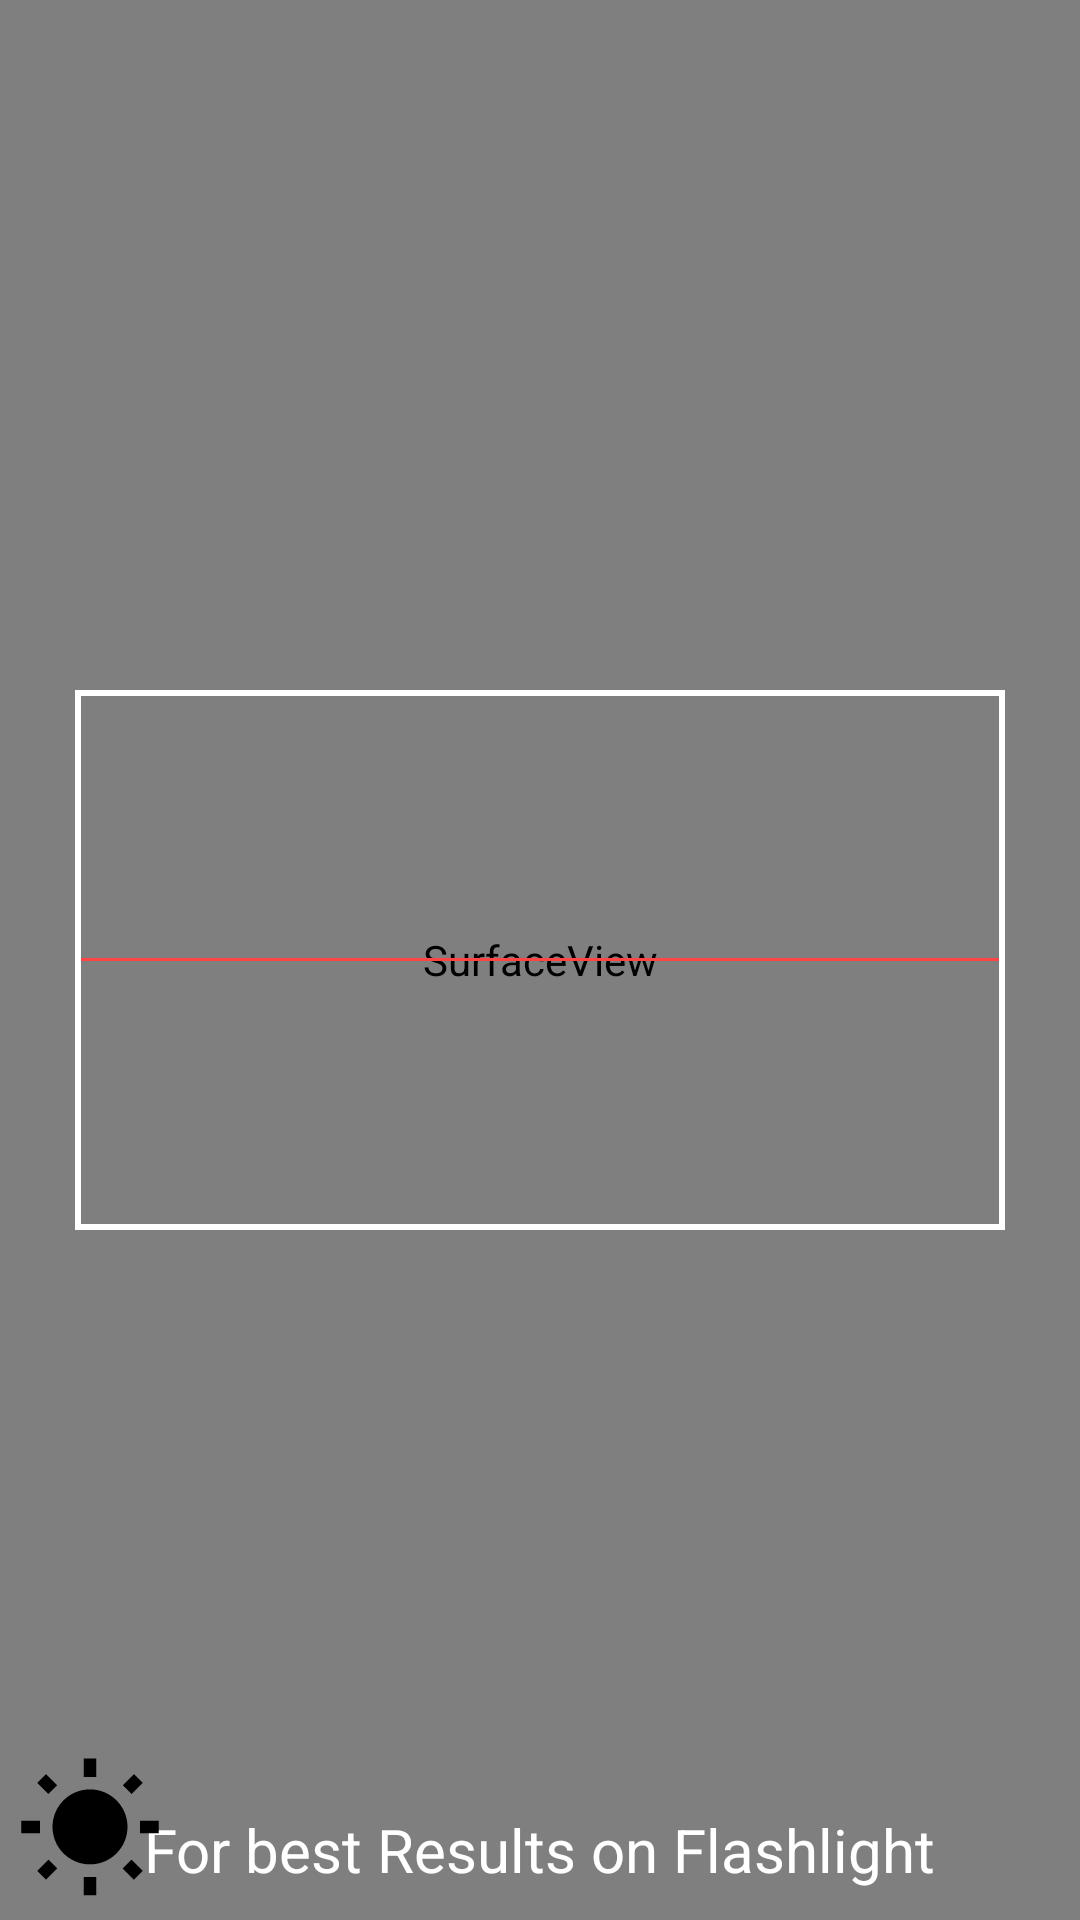

Icon bounding boxes for this 1080px×1920px phone screenshot, format (x1, y1, x2, y2):
torch toggle: (21, 1758, 143, 1896)
